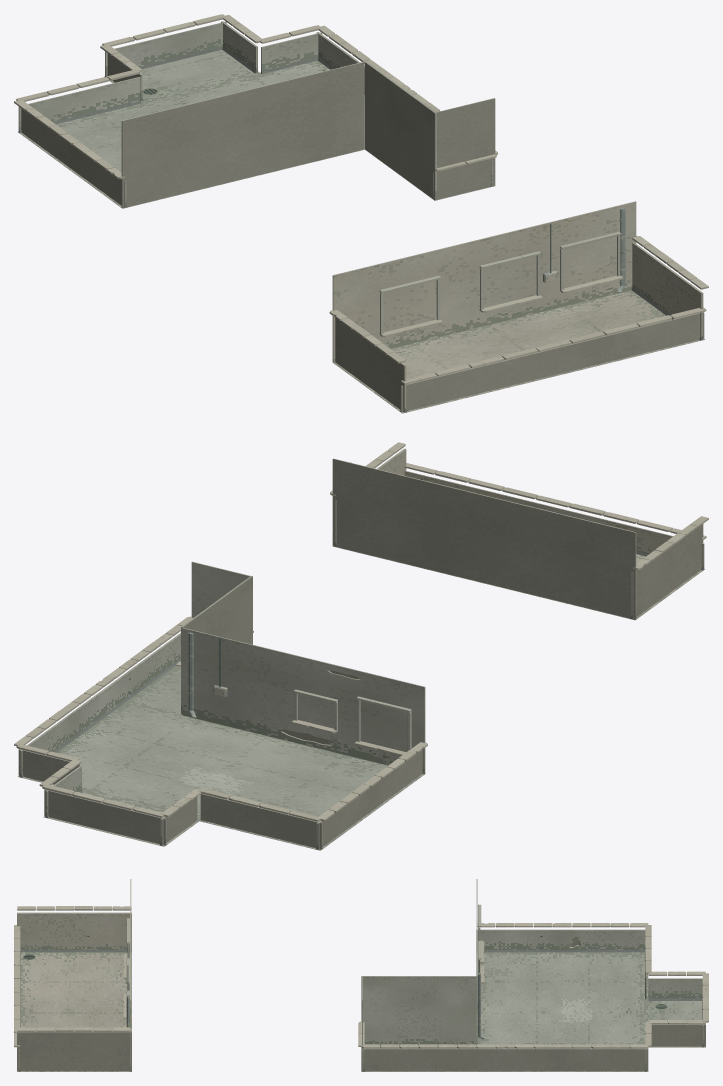
File: terraces.glb
The picture shows the model from 3 angles, top to bottom: view 1: azimuth 30°, elevation 25°; view 2: azimuth 150°, elevation 25°; view 3: azimuth 270°, elevation 25°; orthographic projection. The views are drawn at different scales.
Visible parts, largest first — view 1: terraces/south-house-render-finish, terraces/north-house-render-substrate, terraces/south-floor-finish, terraces/north-floor-finish, terraces/south-parapet-0-substrate, terraces/north-entry-return-substrate, terraces/north-entry-back-substrate, terraces/south-parapet-1-substrate, terraces/south-parapet-2-finish, terraces/north-parapet-0-finish, terraces/north-parapet-7-substrate, terraces/north-parapet-2-finish (+3 smaller); view 2: terraces/south-house-render-substrate, terraces/north-floor-finish, terraces/north-house-render-finish, terraces/north-parapet-5-finish, terraces/north-parapet-0-substrate, terraces/north-parapet-2-substrate, terraces/south-parapet-1-substrate, terraces/north-parapet-7-substrate, terraces/north-entry-return-substrate, terraces/south-parapet-0-finish, terraces/north-entry-back-finish, terraces/north-inlaid-repair-0 (+2 smaller); view 3: terraces/north-floor-finish, terraces/south-floor-finish, terraces/north-entry-return-finish, terraces/north-parapet-5-substrate, terraces/south-parapet-2-substrate, terraces/south-parapet-1-finish, terraces/north-parapet-7-finish, terraces/north-parapet-3-substrate, terraces/north-parapet-1-finish, terraces/north-inlaid-repair-0, terraces/north-cove-7, terraces/south-house-render-finish (+2 smaller).
Part boxes in pixels (x1,y1,x2,y2): terraces/south-house-render-finish: (333, 201, 636, 362); terraces/north-house-render-substrate: (122, 62, 364, 208); terraces/south-floor-finish: (333, 290, 704, 413); terraces/north-floor-finish: (18, 50, 494, 208); terraces/south-parapet-0-substrate: (401, 312, 704, 412); terraces/north-entry-return-substrate: (365, 62, 435, 200); terraces/north-entry-back-substrate: (434, 98, 495, 199); terraces/south-parapet-1-substrate: (335, 317, 404, 412); terraces/south-parapet-2-finish: (632, 242, 702, 337); terraces/north-parapet-0-finish: (19, 77, 140, 130); terraces/north-parapet-7-substrate: (21, 108, 125, 207); terraces/north-parapet-2-finish: (105, 21, 226, 74); terraces/south-house-render-substrate: (332, 459, 635, 619); terraces/north-floor-finish: (18, 665, 424, 850); terraces/north-house-render-finish: (182, 628, 424, 774); terraces/north-parapet-5-finish: (20, 633, 180, 774); terraces/north-parapet-0-substrate: (200, 794, 321, 849); terraces/north-parapet-2-substrate: (44, 789, 165, 845); terraces/south-parapet-1-substrate: (632, 524, 703, 619); terraces/north-parapet-7-substrate: (318, 749, 422, 849); terraces/north-entry-return-substrate: (182, 576, 252, 644); terraces/south-parapet-0-finish: (404, 471, 703, 567); terraces/north-entry-back-finish: (191, 562, 252, 644); terraces/north-inlaid-repair-0: (176, 766, 257, 794); terraces/north-floor-finish: (361, 952, 705, 1071); terraces/south-floor-finish: (17, 952, 131, 1071); terraces/north-entry-return-finish: (361, 976, 476, 1048); terraces/north-parapet-5-substrate: (361, 1049, 648, 1070); terraces/south-parapet-2-substrate: (17, 1032, 131, 1070); terraces/south-parapet-1-finish: (17, 913, 131, 949); terraces/north-parapet-7-finish: (476, 930, 645, 949); terraces/north-parapet-3-substrate: (651, 1025, 705, 1046); terraces/north-parapet-1-finish: (648, 978, 702, 998); terraces/north-inlaid-repair-0: (557, 997, 592, 1023); terraces/north-cove-7: (476, 950, 645, 952); terraces/south-house-render-finish: (130, 879, 131, 1071).
Size of the model in its own units: 20.51 by 5.52 by 48.44.
15 materials, 15 textured.
